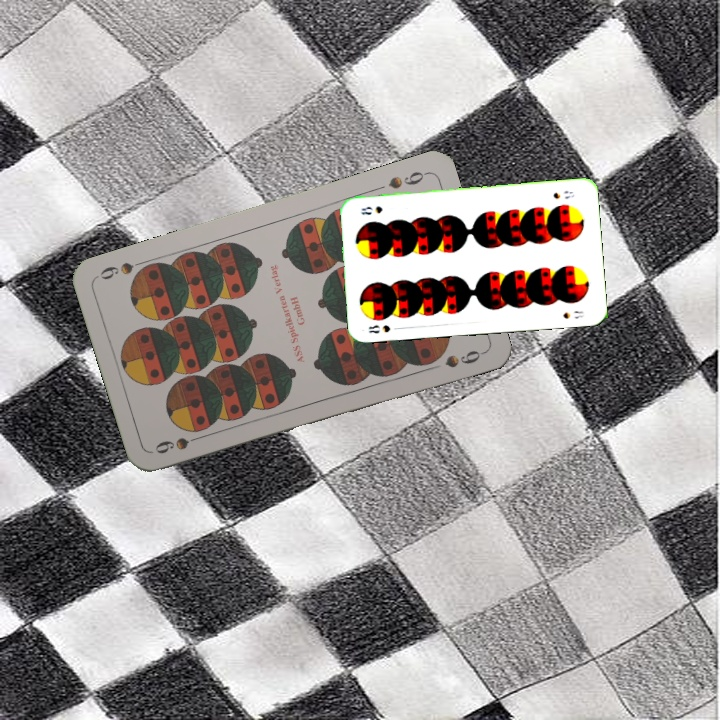S8: (364, 321, 393, 336), (549, 187, 577, 201)
S9: (150, 430, 209, 457), (384, 167, 430, 192)
